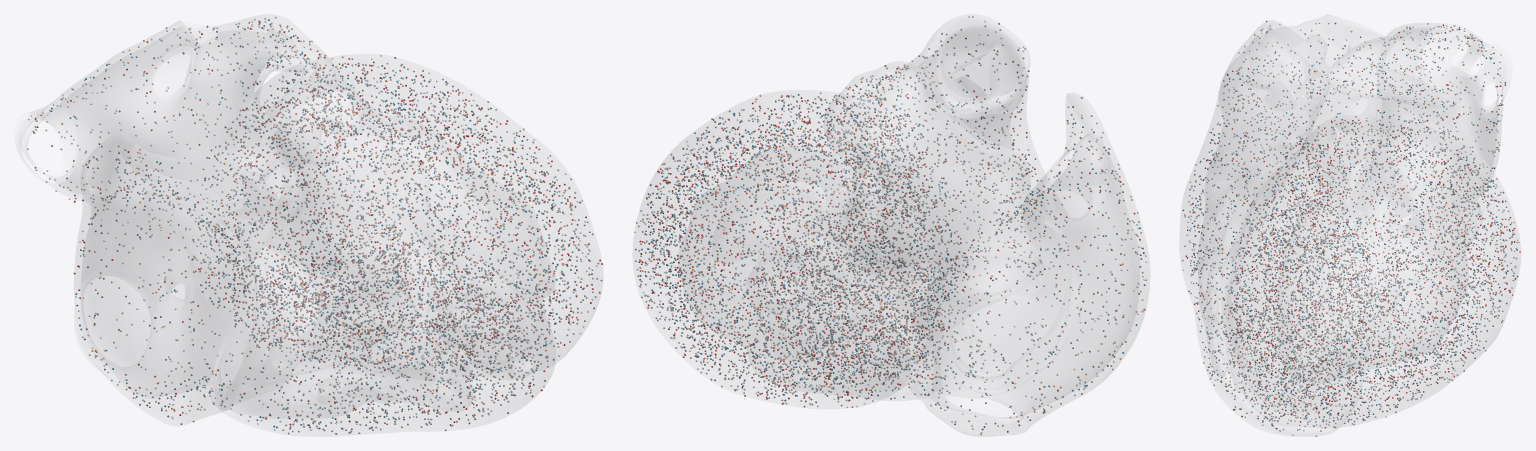
The model's file is 3d-vh-f-heart-UBERON_0000948-all-as-pan-human-azimuth-sphere-hra-pop.glb.
3 renders of one model, left to right at view 1: azimuth 30°, elevation 25°; view 2: azimuth 150°, elevation 25°; view 3: azimuth 270°, elevation 25°, orthographic. The views are drawn at different scales.
Visible parts, largest first — view 1: VH_F_right_ventricle, VH_F_right_cardiac_atrium, VH_F_left_ventricle, VH_F_left_cardiac_atrium, VH_F_tricuspid_valve, VH_F_aortic_valve, VH_F_pulmonary_valve, VH_F_papillary_muscle_of_heart_ant; view 2: VH_F_left_ventricle, VH_F_right_cardiac_atrium, VH_F_left_cardiac_atrium, VH_F_right_ventricle, VH_F_tricuspid_valve, VH_F_papillary_muscle_of_heart_antlat, VH_F_pulmonary_valve, VH_F_mitral_valve, VH_F_papillary_muscle_of_heart_posmed, VH_F_interventricular_septum; view 3: VH_F_left_ventricle, VH_F_right_ventricle, VH_F_left_cardiac_atrium, VH_F_papillary_muscle_of_heart_antlat, VH_F_right_cardiac_atrium, VH_F_aortic_valve, VH_F_mitral_valve, VH_F_interventricular_septum, VH_F_pulmonary_valve, VH_F_papillary_muscle_of_heart_posmed.
Part boxes in pixels (box(x1,y1,x2,y2)): VH_F_right_ventricle: box(210, 58, 555, 436); VH_F_right_cardiac_atrium: box(74, 133, 277, 426); VH_F_left_ventricle: box(254, 54, 602, 371); VH_F_left_cardiac_atrium: box(18, 14, 335, 237); VH_F_tricuspid_valve: box(215, 246, 336, 404); VH_F_aortic_valve: box(204, 112, 297, 225); VH_F_pulmonary_valve: box(271, 92, 363, 170); VH_F_papillary_muscle_of_heart_ant: box(369, 318, 455, 372); VH_F_left_ventricle: box(633, 90, 911, 408); VH_F_right_cardiac_atrium: box(891, 93, 1149, 436); VH_F_left_cardiac_atrium: box(824, 61, 1045, 341); VH_F_right_ventricle: box(748, 14, 1067, 400); VH_F_tricuspid_valve: box(951, 232, 1068, 375); VH_F_papillary_muscle_of_heart_antlat: box(712, 182, 825, 263); VH_F_pulmonary_valve: box(939, 28, 1026, 118); VH_F_mitral_valve: box(826, 196, 944, 308); VH_F_papillary_muscle_of_heart_posmed: box(746, 238, 836, 314); VH_F_interventricular_septum: box(756, 187, 904, 391); VH_F_left_ventricle: box(1225, 115, 1520, 427); VH_F_right_ventricle: box(1179, 20, 1364, 436); VH_F_left_cardiac_atrium: box(1327, 23, 1506, 216); VH_F_papillary_muscle_of_heart_antlat: box(1328, 196, 1422, 327); VH_F_right_cardiac_atrium: box(1219, 14, 1482, 250); VH_F_aortic_valve: box(1301, 82, 1376, 165); VH_F_mitral_valve: box(1356, 153, 1437, 236); VH_F_interventricular_septum: box(1221, 140, 1354, 412); VH_F_pulmonary_valve: box(1238, 37, 1297, 114); VH_F_papillary_muscle_of_heart_posmed: box(1305, 290, 1396, 362).
Bounding box in the file's own units: 0.1425 × 0.11 × 0.1015.
